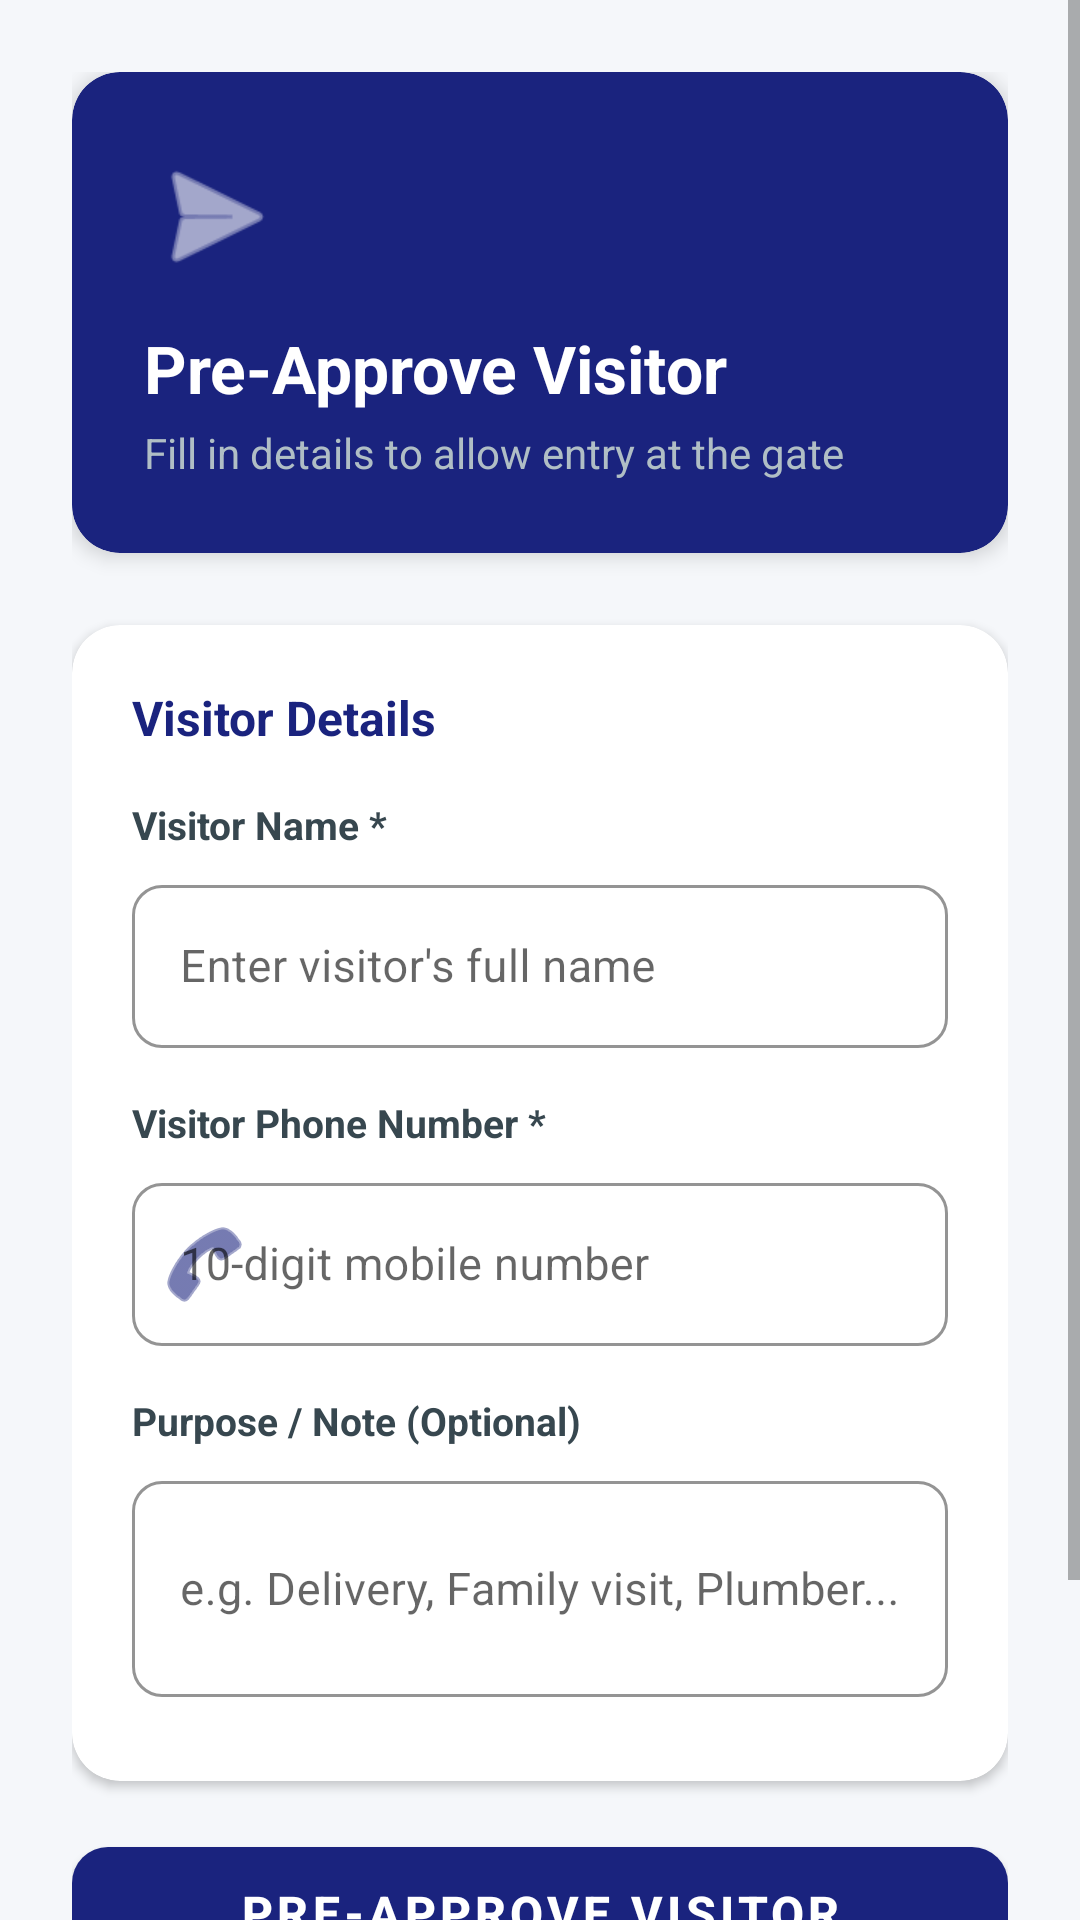

Icons on this 1080w x 1920h Android screen, each with the point to tap as (x,y):
send: (217,216)
